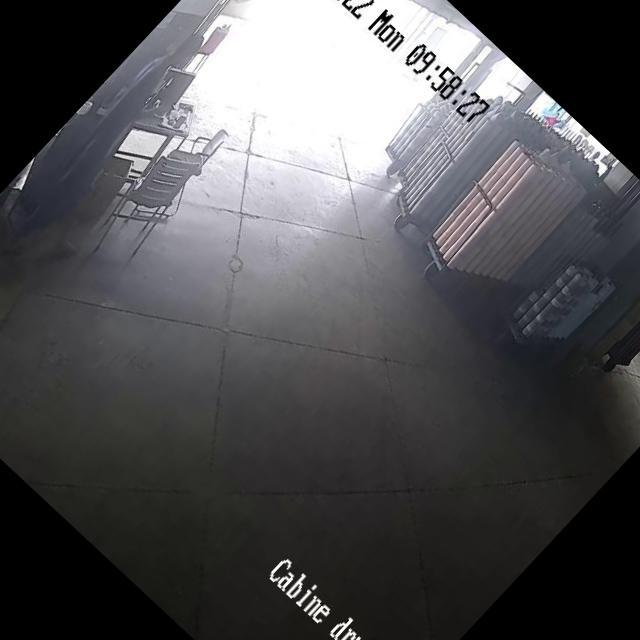person: (18, 29, 208, 230)
